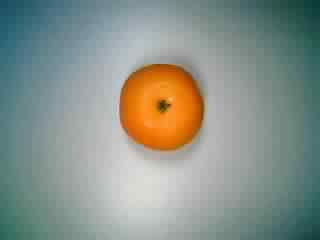orange: (113, 55, 211, 153)
